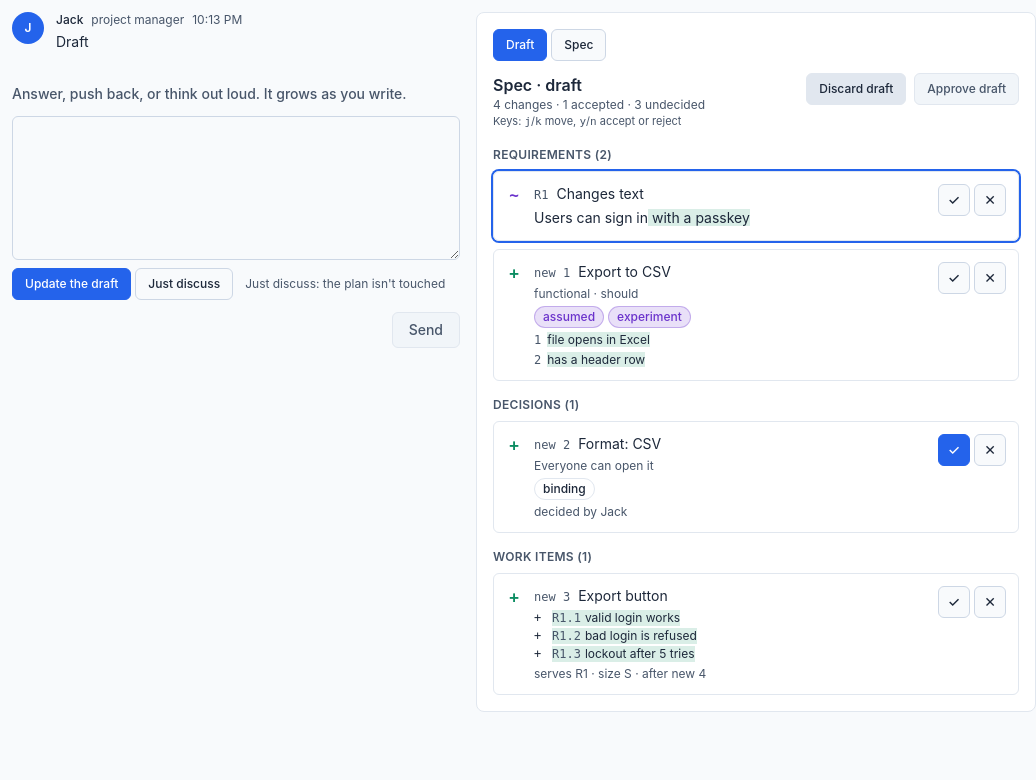
Test: PlanTab draft › discards the draft
Click the button "Discard draft".
click(856, 89)  # box [806,73,906,105]
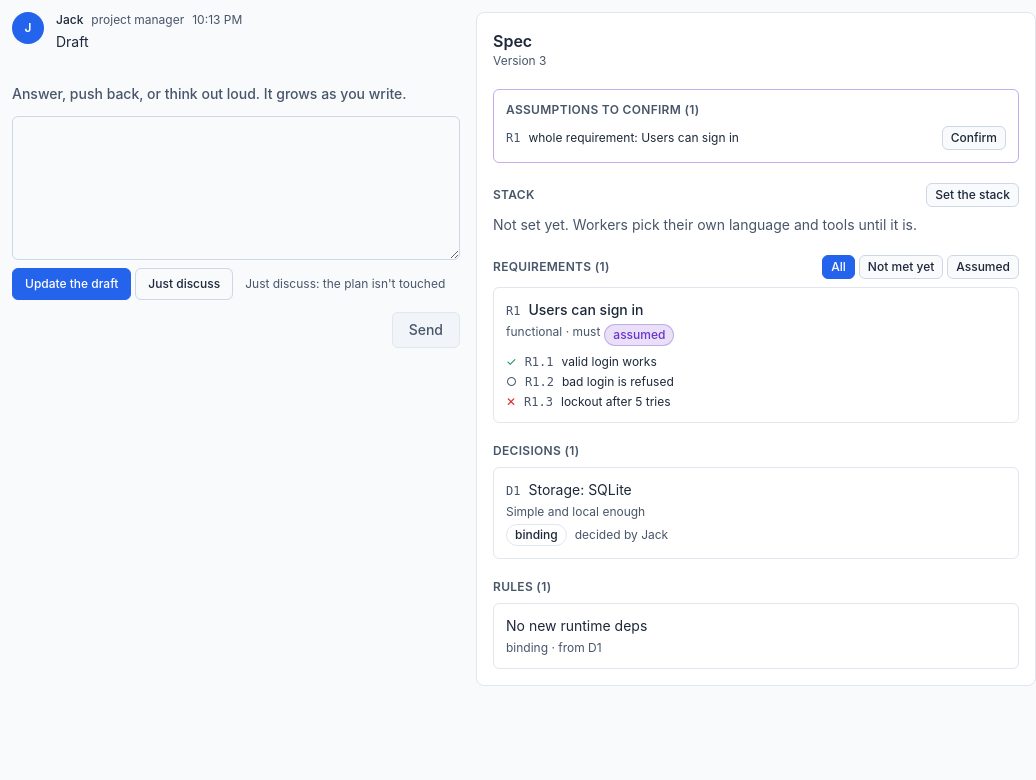
Expected: the text "Version 3" is shown, [493,53,546,68]
